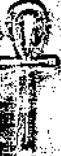Ankh: (3, 3, 61, 156)
